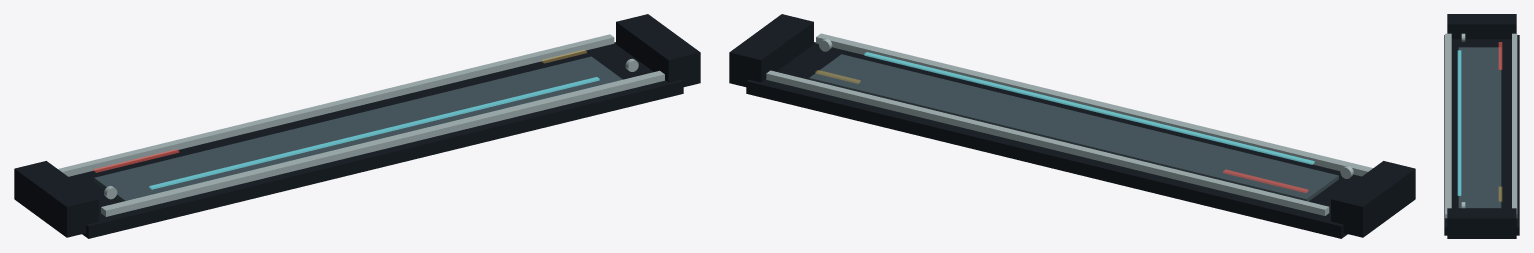
Rendered from hp_door_threshold_service_elevator.glb.
The picture shows the model from 3 angles, left to right: view 1: azimuth 30°, elevation 25°; view 2: azimuth 150°, elevation 25°; view 3: azimuth 270°, elevation 25°; orthographic projection. The views are drawn at different scales.
Parts seen in each view (by area): view 1: service_elevator_threshold_base, service_elevator_threshold_inset_plate, service_elevator_threshold_front_lip, service_elevator_threshold_back_lip, service_elevator_threshold_left_anchor, service_elevator_threshold_right_anchor, service_elevator_threshold_cyan_floor_line, service_elevator_threshold_red_lock_line; view 2: service_elevator_threshold_inset_plate, service_elevator_threshold_base, service_elevator_threshold_front_lip, service_elevator_threshold_back_lip, service_elevator_threshold_left_anchor, service_elevator_threshold_right_anchor, service_elevator_threshold_cyan_floor_line, service_elevator_threshold_red_lock_line; view 3: service_elevator_threshold_inset_plate, service_elevator_threshold_base, service_elevator_threshold_right_anchor, service_elevator_threshold_left_anchor, service_elevator_threshold_front_lip, service_elevator_threshold_back_lip, service_elevator_threshold_cyan_floor_line, service_elevator_threshold_red_lock_line.
Part boxes in pixels (bbox=[...]): service_elevator_threshold_base: bbox=[69, 42, 683, 238]; service_elevator_threshold_inset_plate: bbox=[94, 56, 622, 201]; service_elevator_threshold_front_lip: bbox=[101, 70, 664, 216]; service_elevator_threshold_back_lip: bbox=[58, 34, 614, 176]; service_elevator_threshold_left_anchor: bbox=[14, 161, 98, 237]; service_elevator_threshold_right_anchor: bbox=[616, 14, 700, 86]; service_elevator_threshold_cyan_floor_line: bbox=[149, 77, 599, 189]; service_elevator_threshold_red_lock_line: bbox=[93, 149, 179, 172]; service_elevator_threshold_inset_plate: bbox=[809, 54, 1338, 201]; service_elevator_threshold_base: bbox=[746, 42, 1361, 238]; service_elevator_threshold_front_lip: bbox=[816, 33, 1372, 176]; service_elevator_threshold_back_lip: bbox=[766, 70, 1329, 215]; service_elevator_threshold_left_anchor: bbox=[1331, 161, 1415, 237]; service_elevator_threshold_right_anchor: bbox=[729, 14, 813, 86]; service_elevator_threshold_cyan_floor_line: bbox=[864, 52, 1314, 164]; service_elevator_threshold_red_lock_line: bbox=[1223, 169, 1308, 192]; service_elevator_threshold_inset_plate: bbox=[1458, 47, 1501, 208]; service_elevator_threshold_base: bbox=[1444, 35, 1519, 235]; service_elevator_threshold_right_anchor: bbox=[1447, 208, 1516, 238]; service_elevator_threshold_left_anchor: bbox=[1447, 14, 1516, 39]; service_elevator_threshold_front_lip: bbox=[1445, 33, 1451, 218]; service_elevator_threshold_back_lip: bbox=[1512, 33, 1517, 217]; service_elevator_threshold_cyan_floor_line: bbox=[1457, 50, 1461, 195]; service_elevator_threshold_red_lock_line: bbox=[1498, 42, 1502, 69].
Size of the model in its own units: 4.74 by 0.25 by 0.74.
